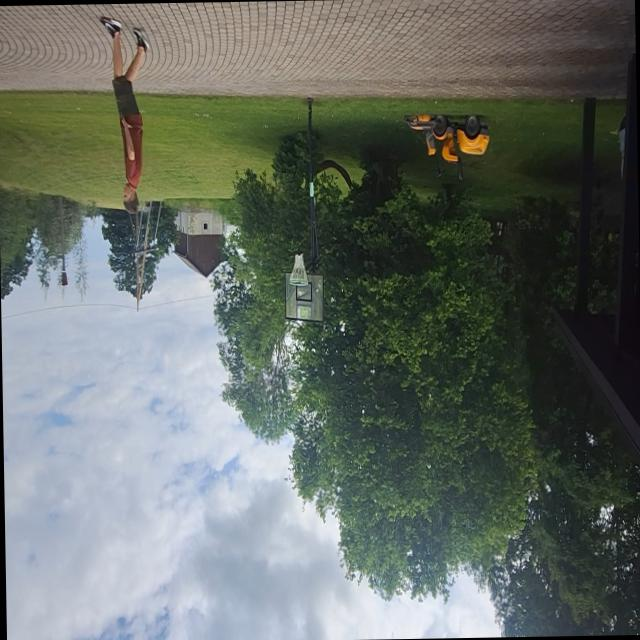hoop: (286, 252, 308, 290)
player: (99, 12, 152, 219)
